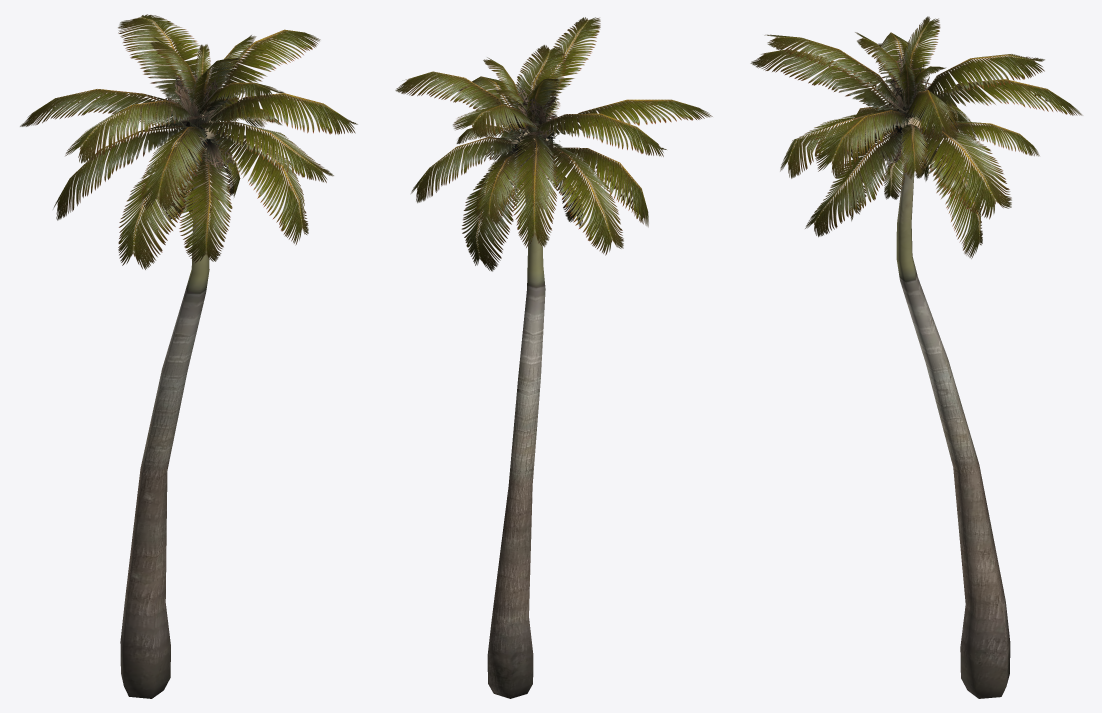
File: Palm_Tropical_Golden_01.glb
3 renders of one model, left to right at view 1: azimuth 30°, elevation 25°; view 2: azimuth 150°, elevation 25°; view 3: azimuth 270°, elevation 25°, orthographic. The views are drawn at different scales.
Parts seen in each view (by area): view 1: Palm1_VARCol1; view 2: Palm1_VARCol1; view 3: Palm1_VARCol1.
Boxes of the visible parts, x1,y1,x2,y2 form: Palm1_VARCol1: [20, 14, 357, 698]; Palm1_VARCol1: [395, 17, 712, 698]; Palm1_VARCol1: [750, 16, 1082, 698].
Bounding box in the file's own units: 2.89 × 6.62 × 3.09.
Materials: 1 (1 with a texture image).
